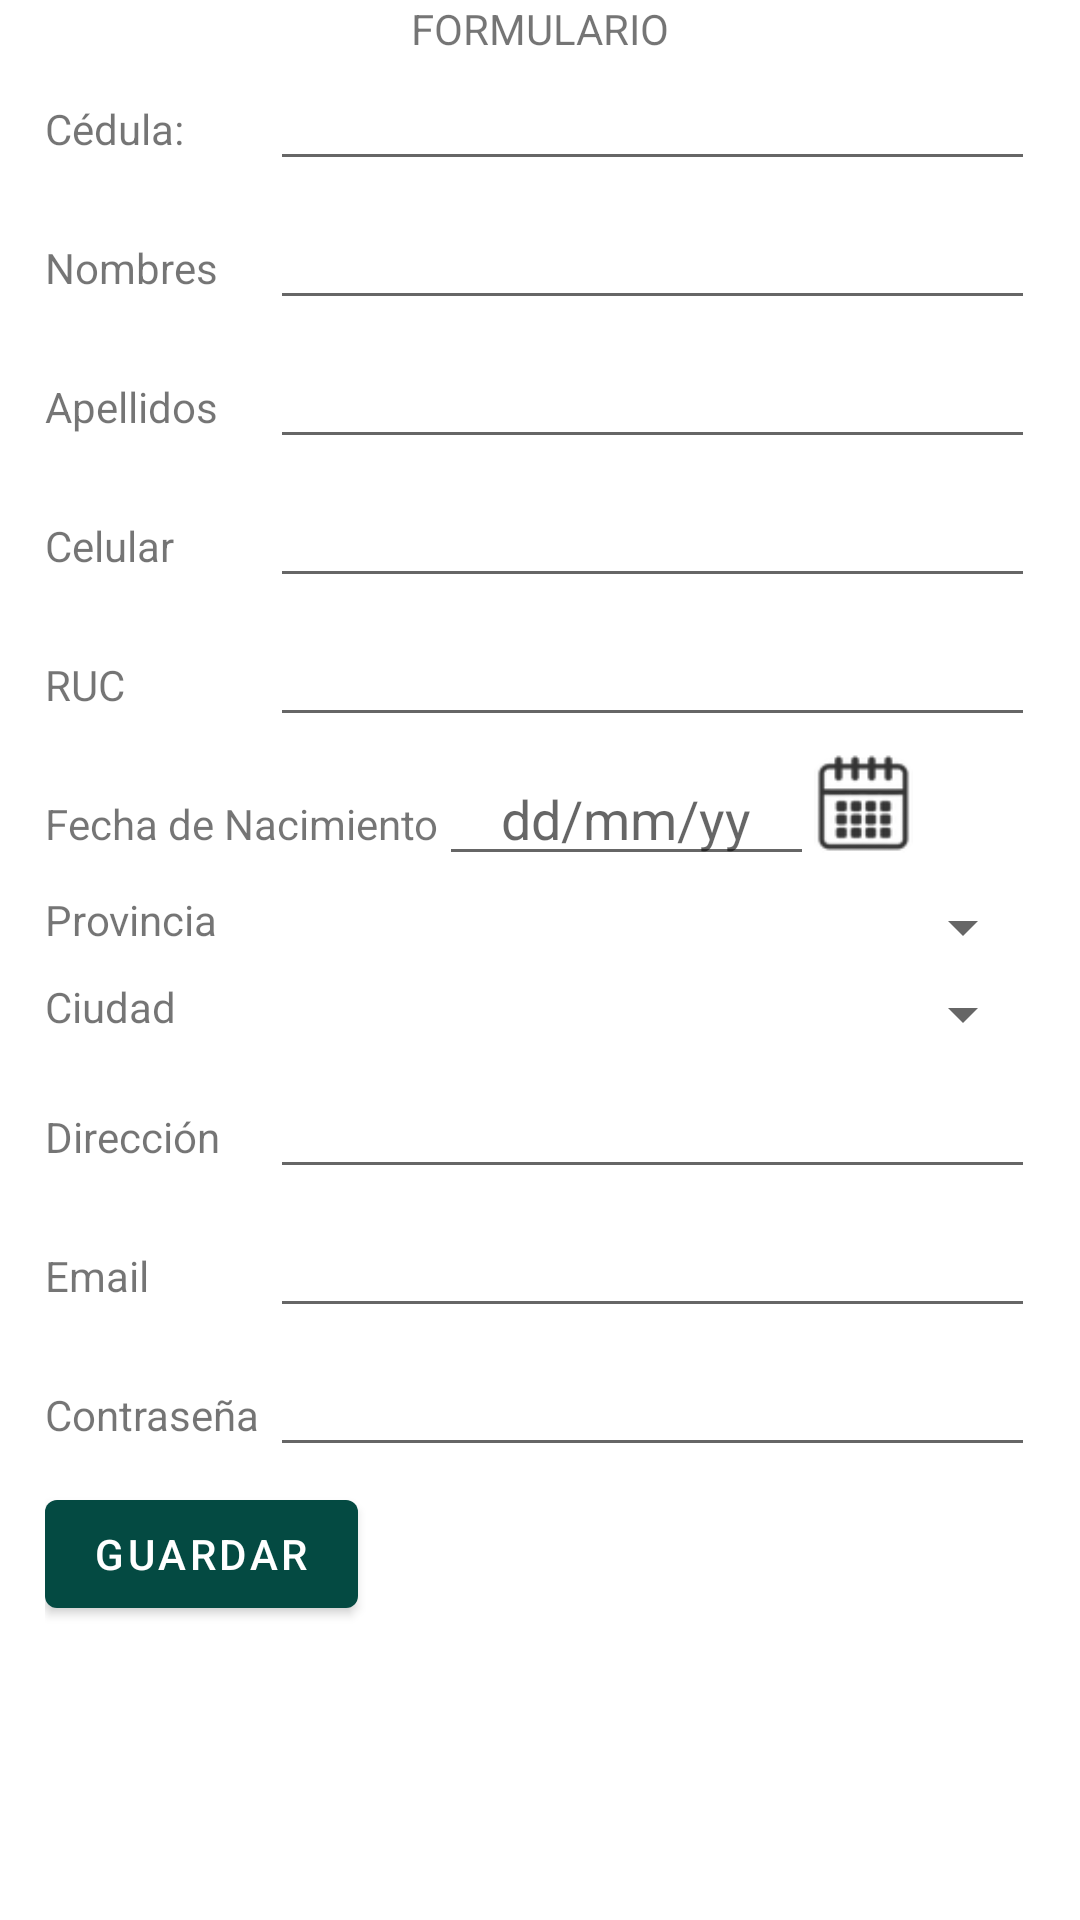

Screen size 1080px x 1920px. Icon name, then its center in pixels as (x,y):
calendario: (863,803)
